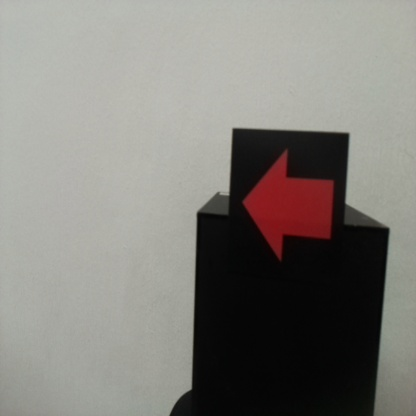id_4: (232, 129, 347, 297)
